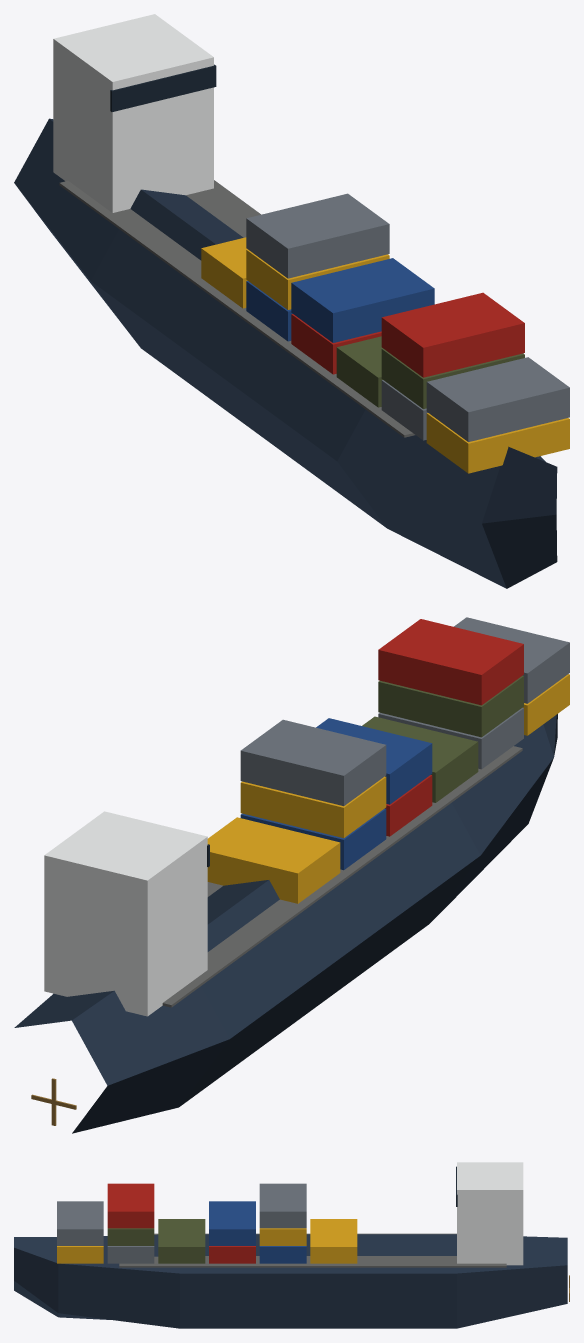
The model's file is veh_naval_merchant_a07_lod1.glb.
The picture shows the model from 3 angles, top to bottom: view 1: azimuth 30°, elevation 25°; view 2: azimuth 150°, elevation 25°; view 3: azimuth 270°, elevation 25°; orthographic projection. The views are drawn at different scales.
Visible parts, largest first — view 1: body; view 2: body; view 3: body.
Part boxes in pixels (x1,y1,x2,y2): body: [14, 14, 569, 588]; body: [14, 617, 569, 1133]; body: [14, 1162, 567, 1328].
Bounding box in the file's own units: 4.39 × 8.69 × 28.52.
